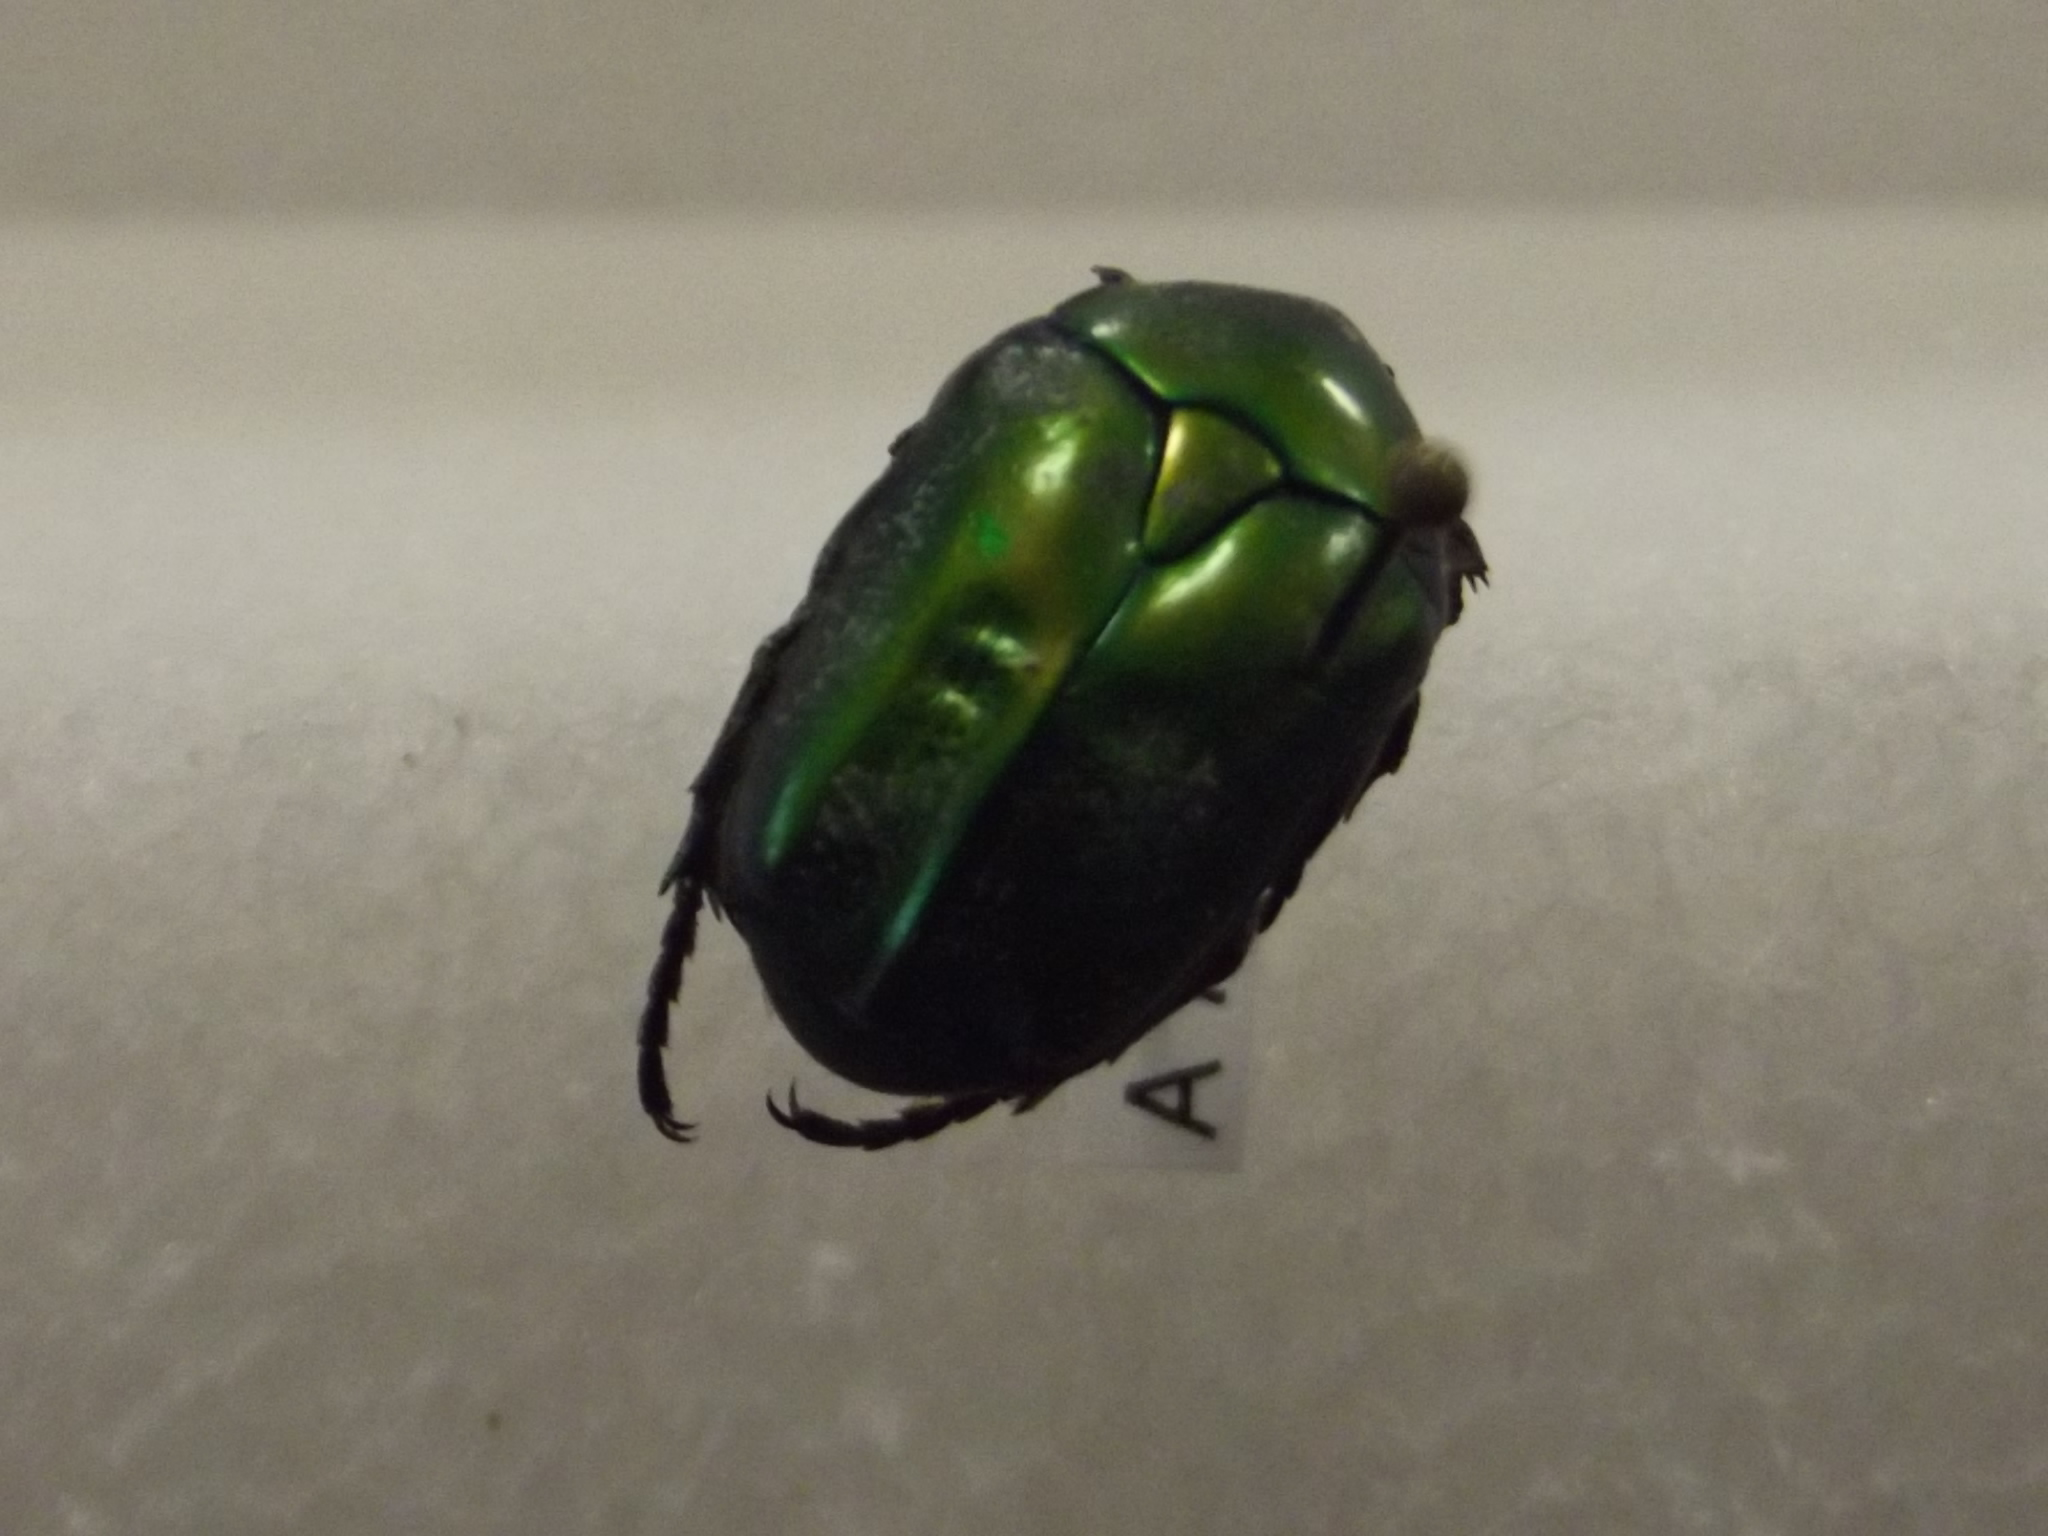Protaetia_cuprea_ignicollis: (610, 258, 1501, 1218)
